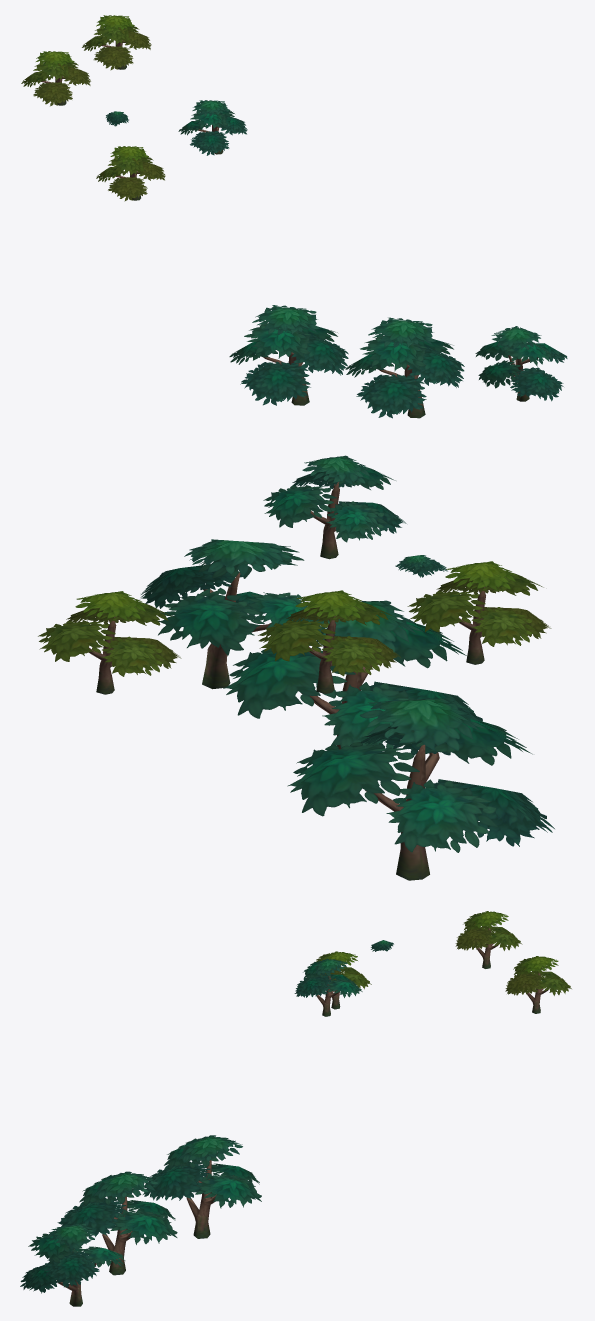
Rendered from 1Moba_shu01.FBX.
3 renders of one model, top to bottom at view 1: azimuth 30°, elevation 25°; view 2: azimuth 150°, elevation 25°; view 3: azimuth 270°, elevation 25°, orthographic. The views are drawn at different scales.
Visible parts, largest first — view 1: 1Moba_shu01; view 2: 1Moba_shu01; view 3: 1Moba_shu01.
Boxes of the visible parts, bbox=[...] form: 1Moba_shu01: bbox=[21, 15, 567, 418]; 1Moba_shu01: bbox=[38, 455, 554, 880]; 1Moba_shu01: bbox=[20, 911, 571, 1306].
Bounding box in the file's own units: 871 × 659 × 1248.
1 material, 1 textured.
